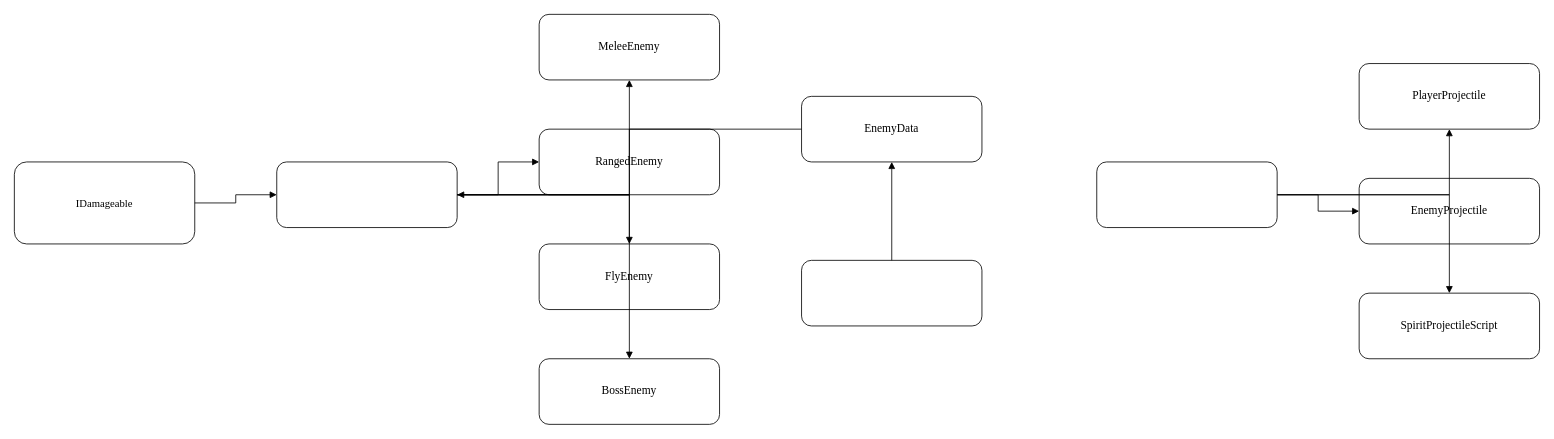
This 1554x439 diagram has some shape labels left out. The shapes that lost their labels are listed below. From the top down, each one's centre as x and y in pixels, then its label:
At pixel 366 194: "Enemy".
At pixel 1186 194: "Projectile".
At pixel 891 293: "EnemyConfig".
